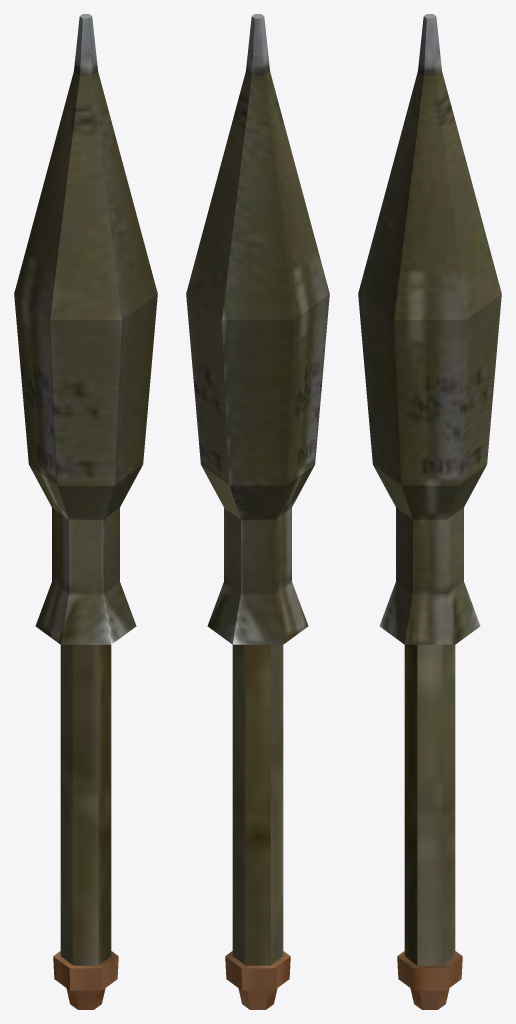
Rendered from rpg7_rocket.glb.
The picture shows the model from 3 angles, left to right: view 1: azimuth 30°, elevation 25°; view 2: azimuth 150°, elevation 25°; view 3: azimuth 270°, elevation 25°; orthographic projection.
Parts seen in each view (by area): view 1: Rocket; view 2: Rocket; view 3: Rocket.
Part boxes in pixels (x1,y1,x2,y2): Rocket: (14,14,157,1009); Rocket: (186,14,329,1009); Rocket: (358,14,501,1009).
Size of the model in its own units: 0.2461 by 2.16 by 0.2842.
1 material, 1 textured.
